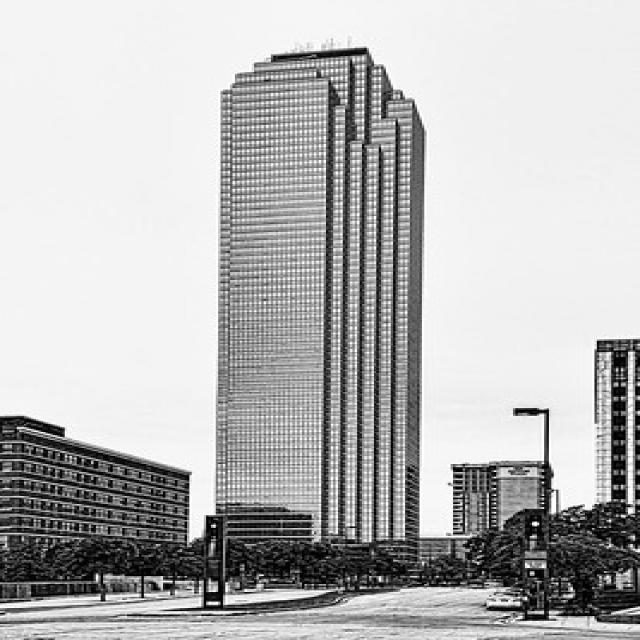Normal_building: (204, 41, 424, 582)
